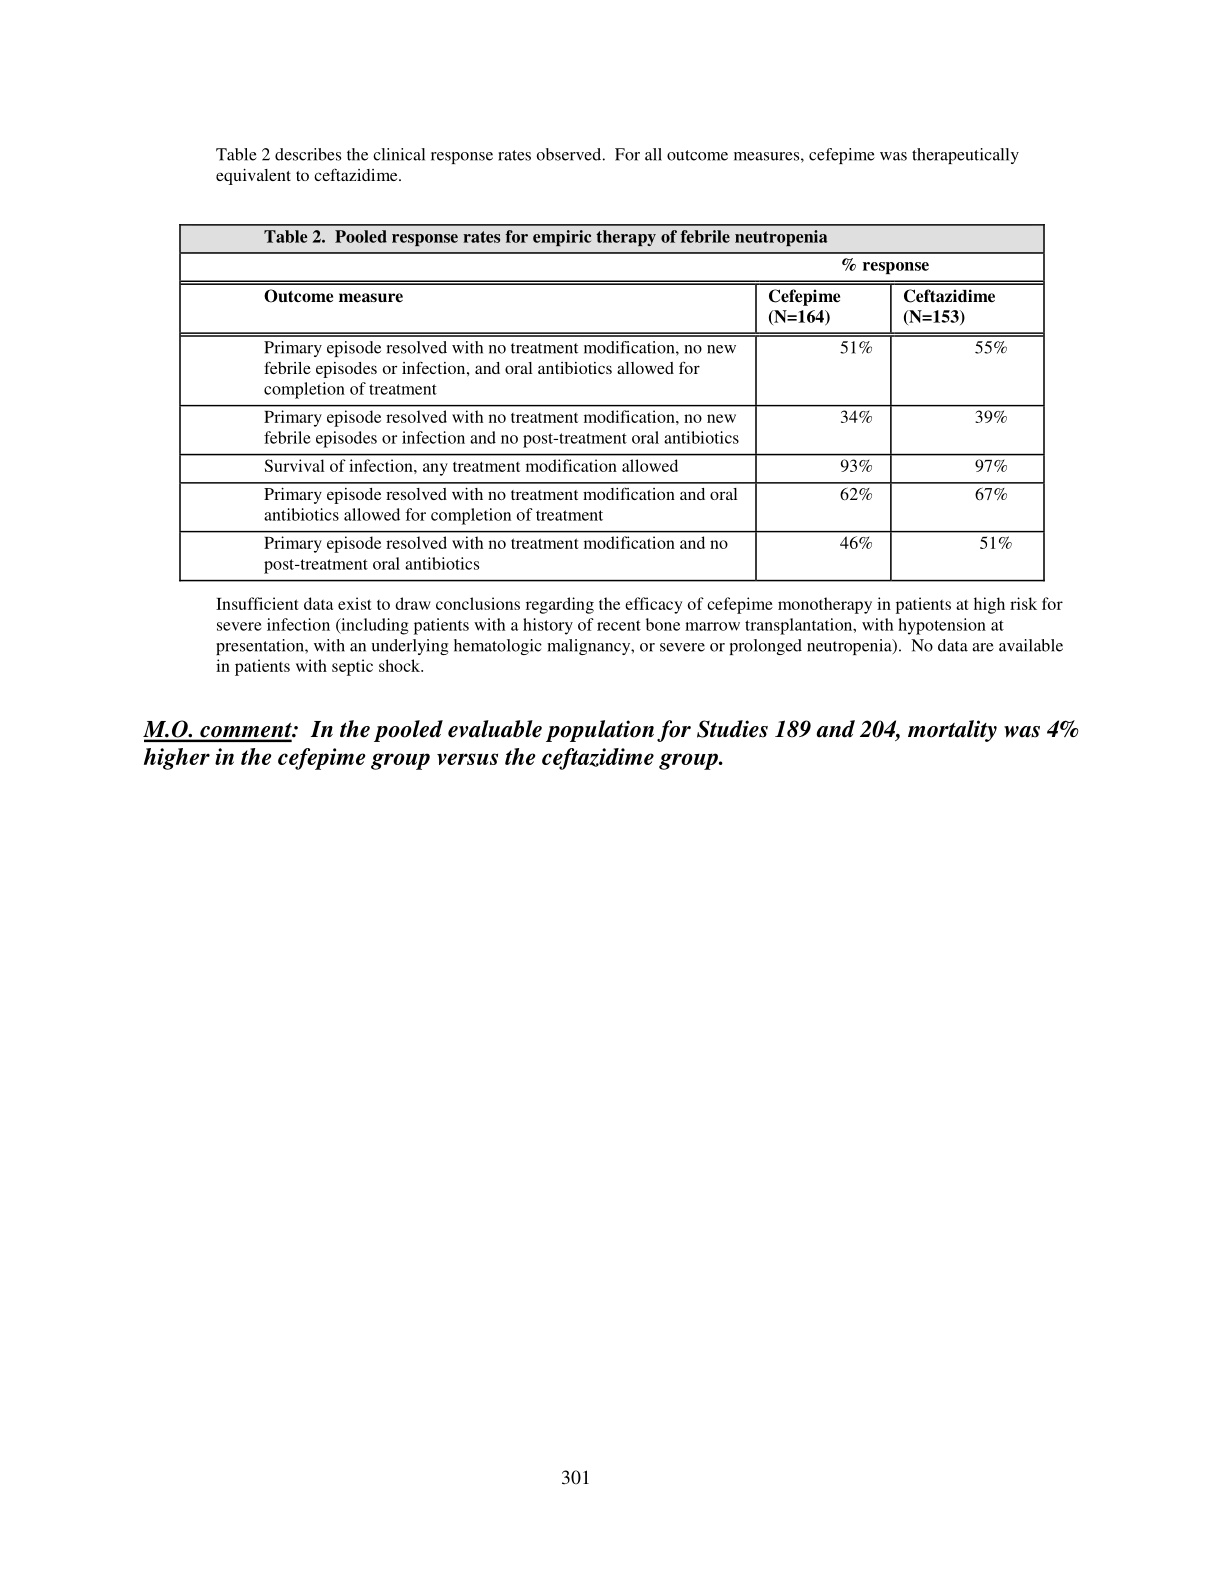merged_cells: (177, 222, 1047, 582)
